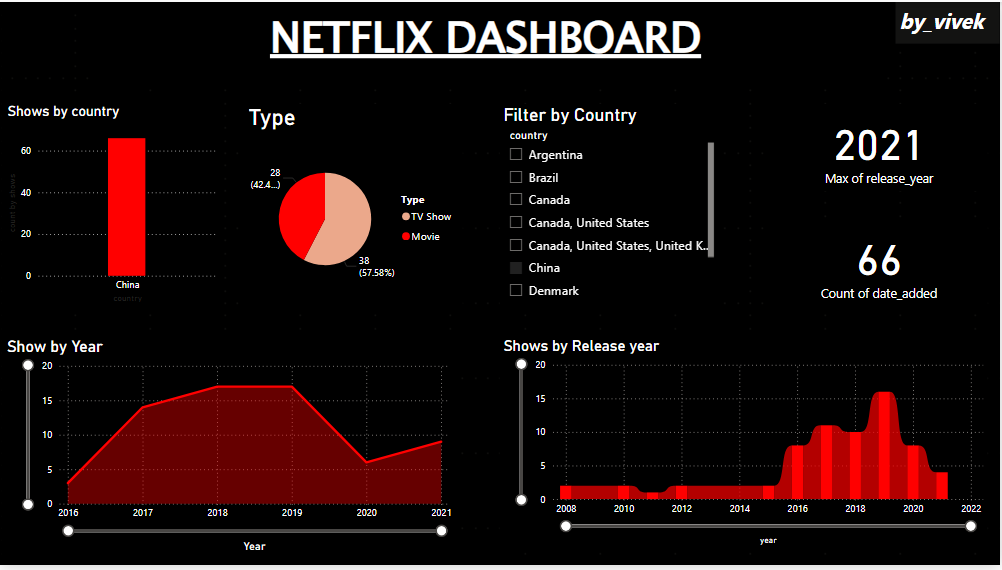

What the dashboard file says about the page in this screenshot:
{"tool":"powerbi","page":{"name":"Page 1","canvas":[1280,720],"ordinal":0},"visuals":[{"type":"pieChart","title":" Type","fields":{"Category":["netflix_titles.Type"],"Y":["CountNonNull(netflix_titles.country)"]},"box":[313.6,129.7,279.4,260.8],"z":0},{"type":"lineChart","title":" Show  by Year","fields":{"Category":["netflix_titles.date_added.Variation.Date Hierarchy.Year","netflix_titles.date_added.Variation.Date Hierarchy.Quarter","netflix_titles.date_added.Variation.Date Hierarchy.Month","netflix_titles.date_added.Variation.Date Hierarchy.Day"],"Y":["CountNonNull(netflix_titles.Show id)"]},"box":[4.4,427.6,578.9,280.7],"z":1000},{"type":"columnChart","title":"Shows by country","fields":{"Category":["netflix_titles.country"],"Y":["netflix_titles.count by shows"]},"box":[4.4,129.5,279.3,261.8],"z":2000},{"type":"ribbonChart","title":"Shows by Release year","fields":{"Y":["netflix_titles.count by shows"],"Category":["netflix_titles.release_year"]},"box":[640,427.6,624.3,270.8],"z":3000},{"type":"card","fields":{"Values":["Max(netflix_titles.release_year)"]},"box":[984.9,129.7,279.4,111.2],"z":4000},{"type":"slicer","title":"Filter by Country","fields":{"Values":["netflix_titles.country"]},"box":[640,129.7,279.4,260.8],"z":5000},{"type":"card","fields":{"Values":["CountNonNull(netflix_titles.date_added)"]},"box":[984.9,276.5,279.4,114],"z":6000},{"type":"textbox","box":[119.7,0,1004.9,106.9],"z":7000},{"type":"textbox","box":[1146.7,0,133.3,53.3],"z":8000}]}

Visuals, with their boxes in screenshot pixels (x1, y1, x2, y2), scaled from the page's 1280x720 canvas onto the 1002x570 screenshot:
" Type" pieChart: l=245, t=103, r=464, b=309
" Show  by Year" lineChart: l=3, t=339, r=457, b=561
"Shows by country" columnChart: l=3, t=103, r=222, b=310
"Shows by Release year" ribbonChart: l=501, t=339, r=990, b=553
card - Max(netflix_titles.release_year): l=771, t=103, r=990, b=191
"Filter by Country" slicer: l=501, t=103, r=720, b=309
card - CountNonNull(netflix_titles.date_added): l=771, t=219, r=990, b=309
textbox: l=94, t=0, r=880, b=85
textbox: l=898, t=0, r=1001, b=42
